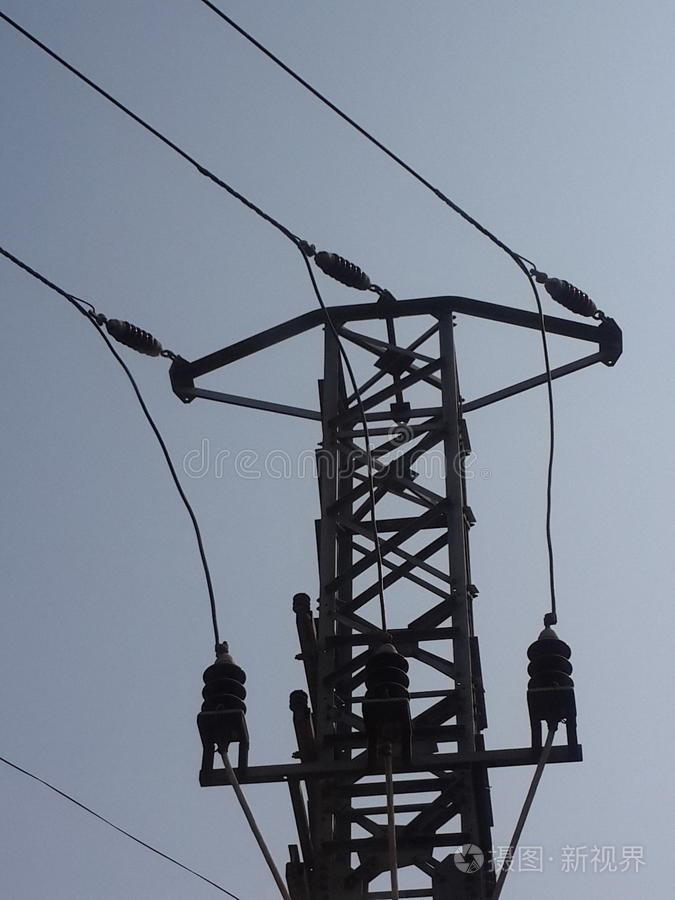insulator: (199, 664, 251, 716), (527, 638, 574, 688)
